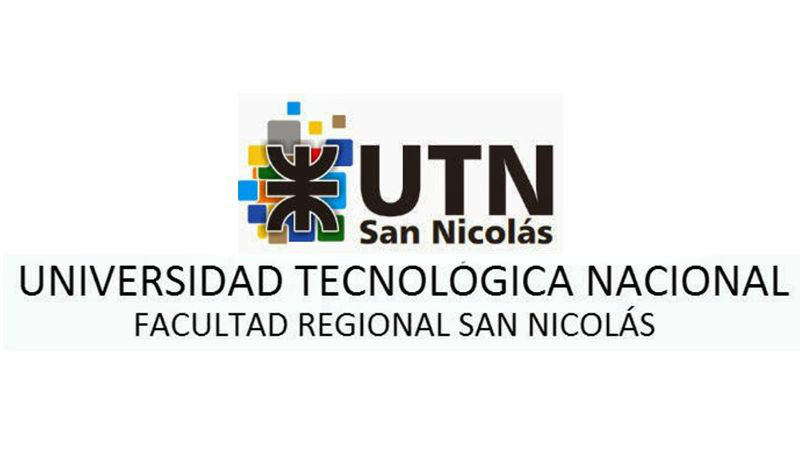utn: (263, 139, 344, 234)
